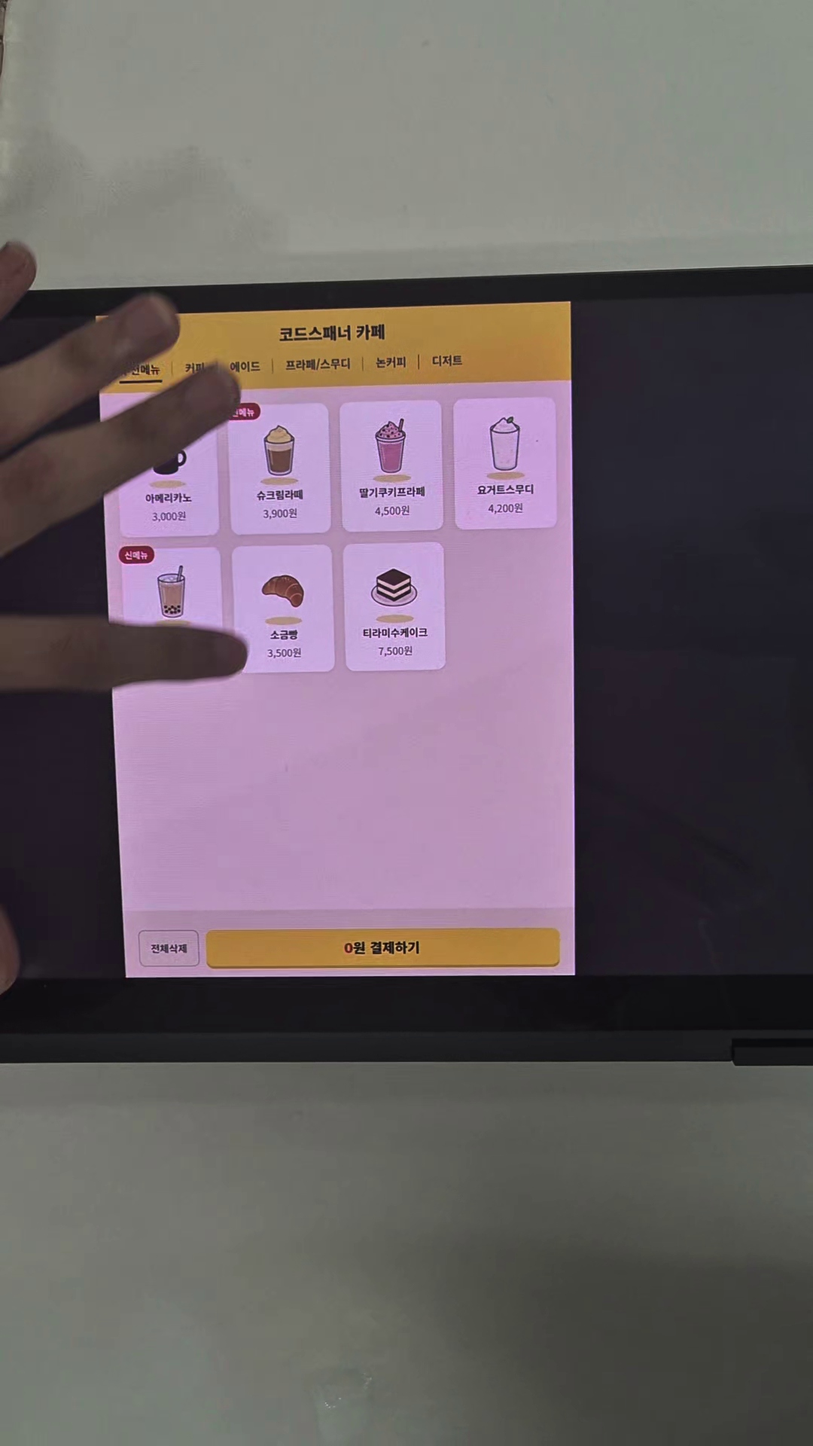action_button: (206, 929, 560, 969), (138, 929, 199, 967)
category_tab: (284, 356, 352, 372), (228, 359, 261, 374), (375, 355, 407, 369), (431, 354, 463, 367)
menu_back: (227, 402, 332, 535), (453, 397, 558, 530), (340, 399, 444, 532), (116, 406, 220, 538), (232, 544, 335, 674), (344, 542, 446, 672), (122, 547, 223, 676)
menu_name: (357, 485, 426, 500), (361, 626, 429, 640), (475, 482, 535, 497), (255, 488, 304, 502), (144, 492, 192, 505), (268, 628, 299, 642)
menu_price: (486, 501, 525, 516), (264, 646, 302, 661), (373, 504, 412, 518), (376, 644, 414, 658), (261, 507, 299, 520), (150, 510, 187, 523)
